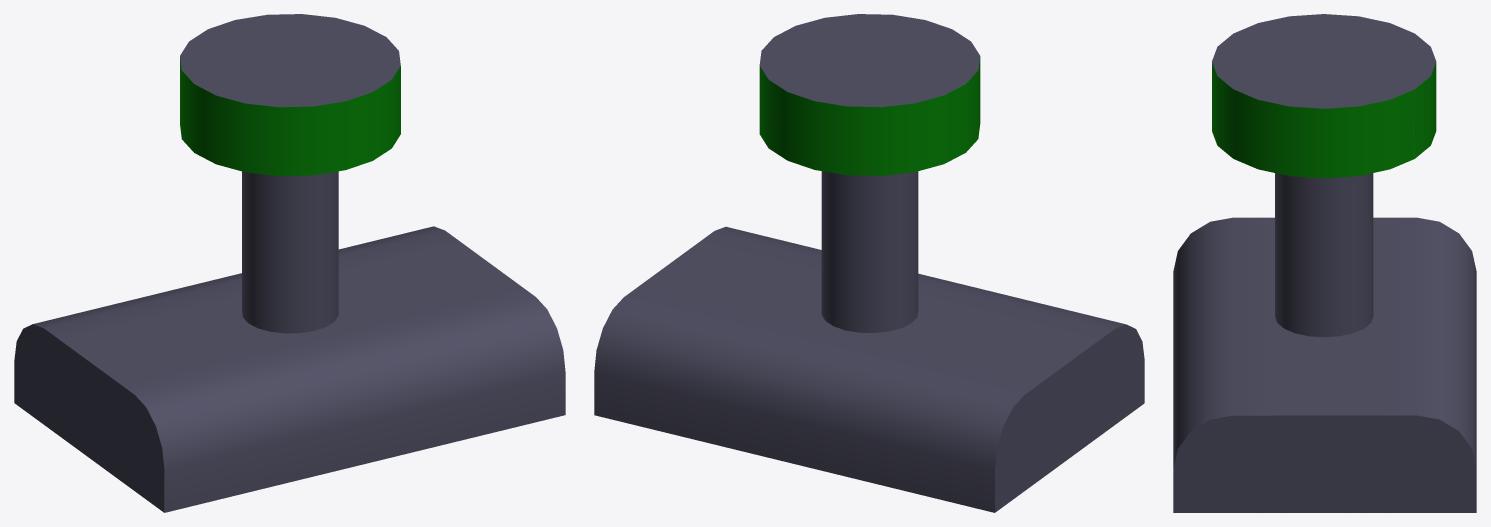
File: stamp.fbx
3 views of the same model, side by side, from view 1: azimuth 30°, elevation 25°; view 2: azimuth 150°, elevation 25°; view 3: azimuth 270°, elevation 25° (orthographic).
Parts seen in each view (by area): view 1: печать; view 2: печать; view 3: печать.
Boxes of the visible parts, left/top/right/bottom form: печать: left=14, top=14, right=565, bottom=512; печать: left=594, top=14, right=1144, bottom=512; печать: left=1173, top=14, right=1476, bottom=512.
Bounding box in the file's own units: 9.31 × 7.74 × 6.03.
